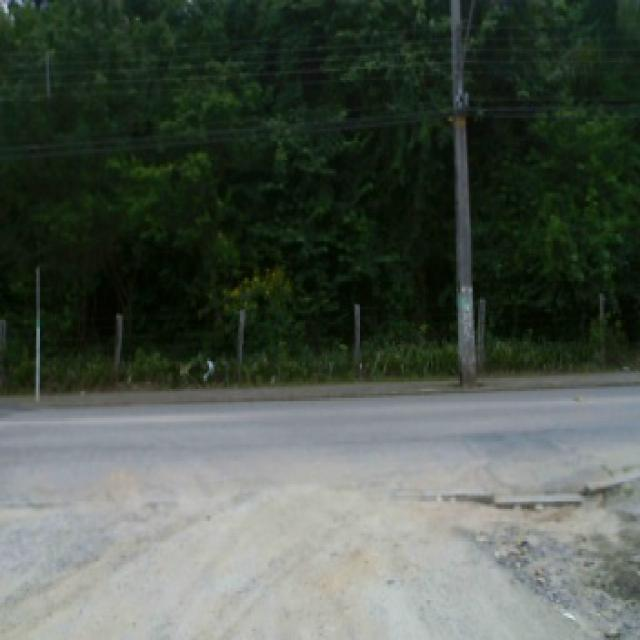Poth-hole: (444, 469, 632, 511), (491, 531, 553, 598), (598, 626, 620, 636), (573, 393, 582, 400)
